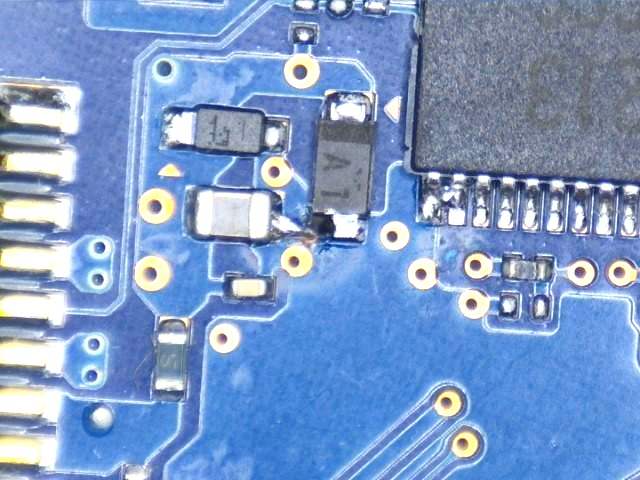pcb_defect: (249, 191, 359, 241), (419, 172, 467, 224)
